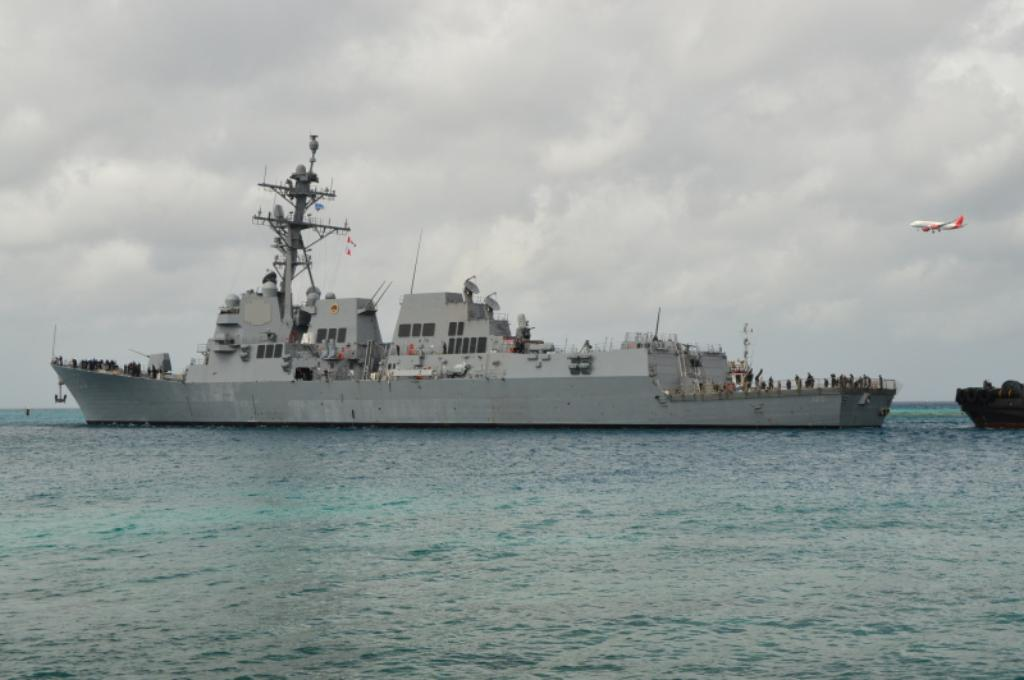Warship: (44, 124, 904, 432)
